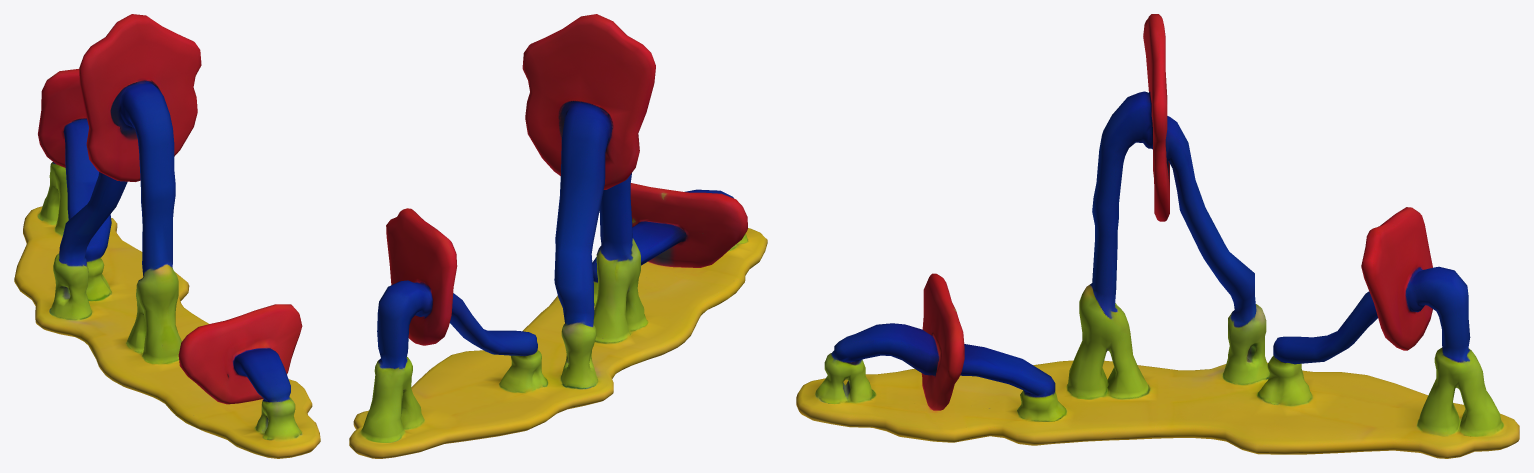
3 views of the same model, side by side, from view 1: azimuth 30°, elevation 25°; view 2: azimuth 150°, elevation 25°; view 3: azimuth 270°, elevation 25° (orthographic). The views are drawn at different scales.
Parts seen in each view (by area): view 1: tripo_node_cc63ca84-f428-40c1-afef-9e09c33634a2; view 2: tripo_node_cc63ca84-f428-40c1-afef-9e09c33634a2; view 3: tripo_node_cc63ca84-f428-40c1-afef-9e09c33634a2.
Part boxes in pixels (x1,y1,x2,y2): tripo_node_cc63ca84-f428-40c1-afef-9e09c33634a2: [14, 14, 320, 458]; tripo_node_cc63ca84-f428-40c1-afef-9e09c33634a2: [349, 14, 767, 458]; tripo_node_cc63ca84-f428-40c1-afef-9e09c33634a2: [796, 14, 1519, 458].
Size of the model in its own units: 0.3053 by 0.5851 by 1.
Materials: 1 (1 with a texture image).
